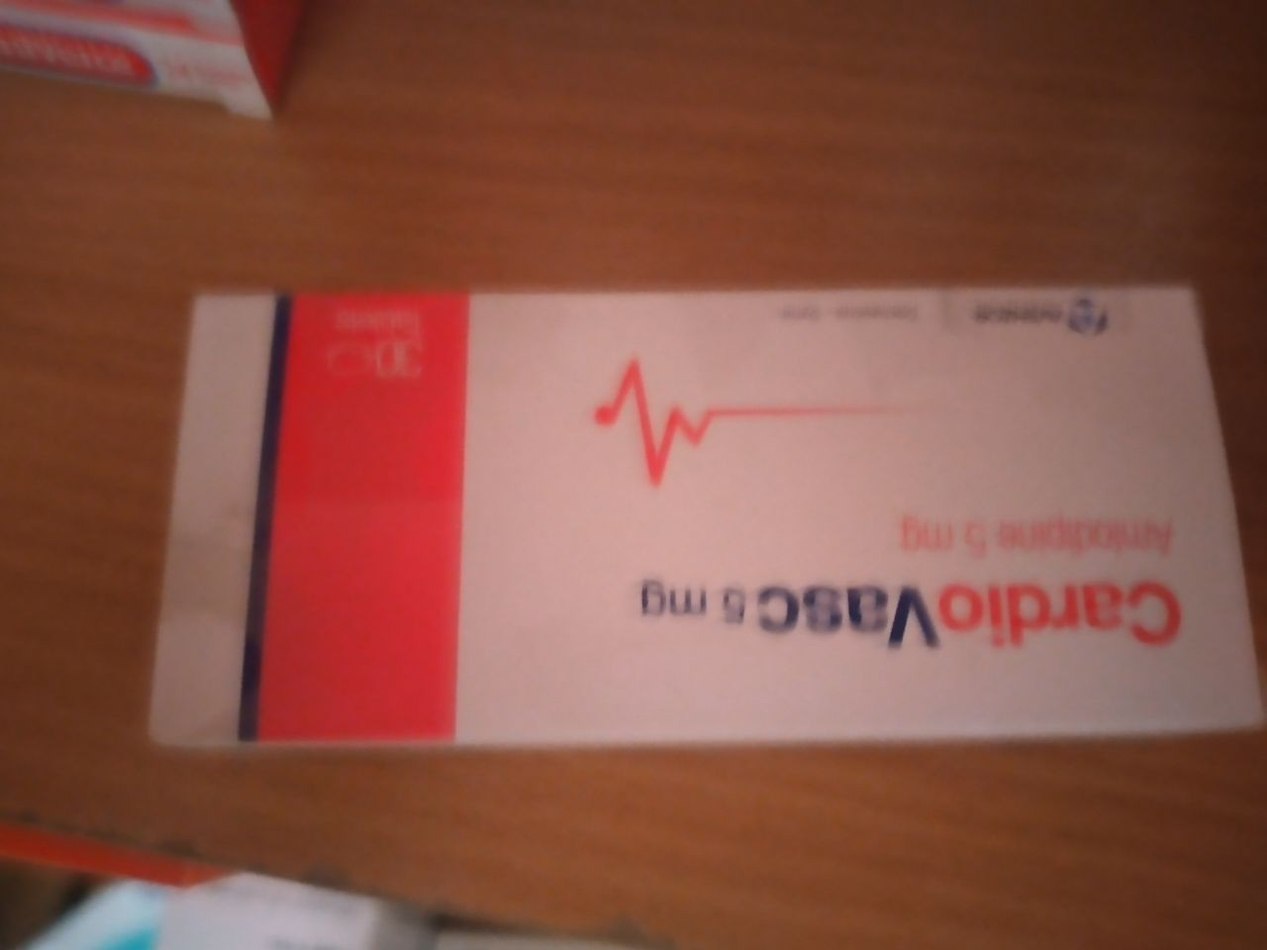Medicine: (210, 277, 1267, 730)
